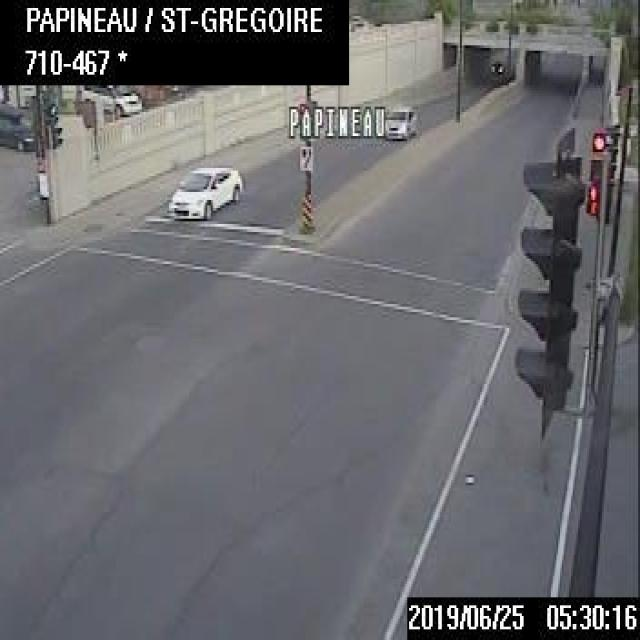vehicle: (166, 163, 243, 216), (80, 82, 142, 115), (0, 102, 35, 150), (384, 98, 420, 138), (489, 58, 506, 78)
